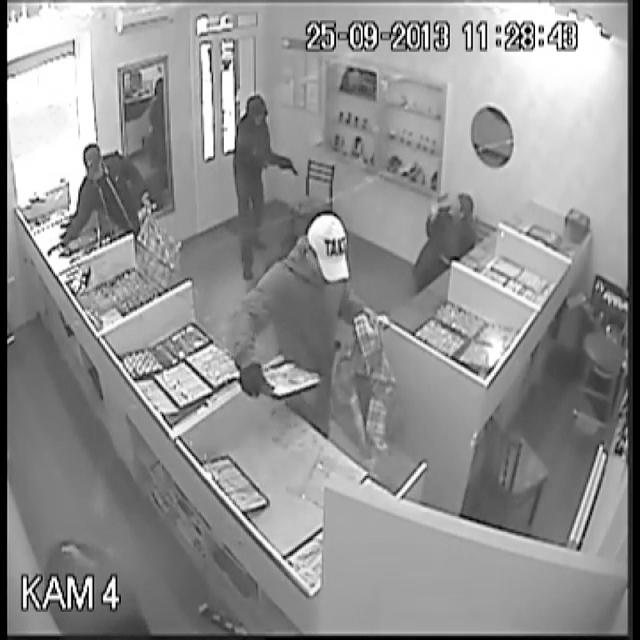gun: (274, 148, 302, 188)
person: (237, 207, 381, 391), (58, 141, 168, 243), (413, 174, 473, 276)
person with a gun: (217, 96, 297, 276)
